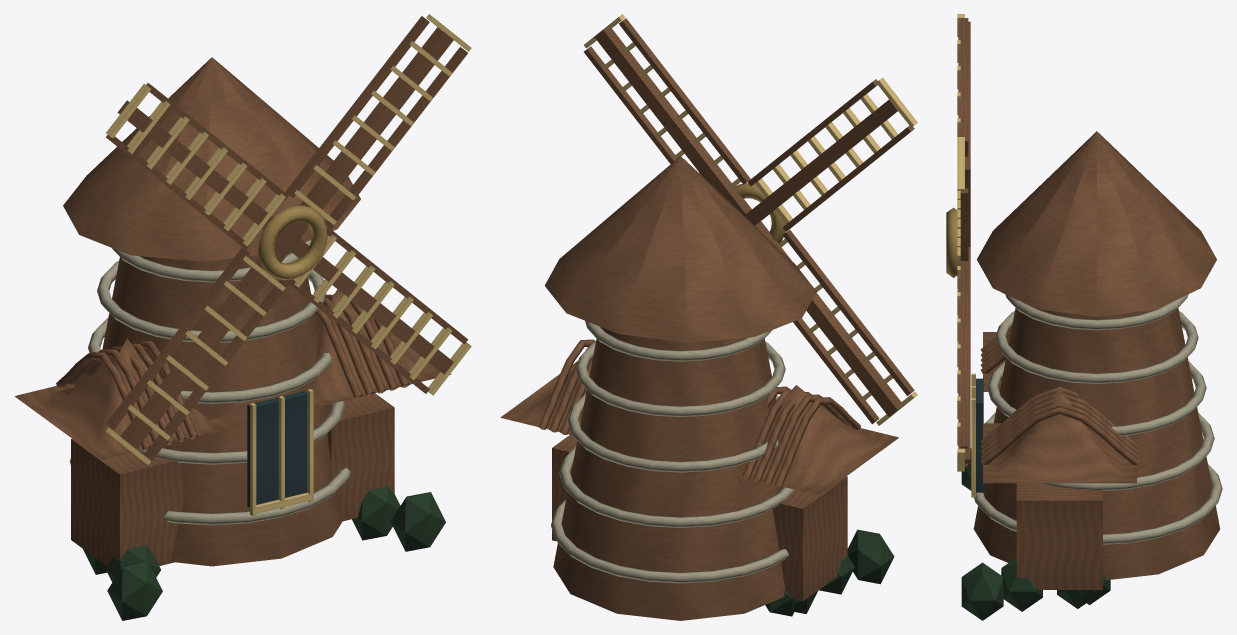
The model's file is windmill.glb.
3 views of the same model, side by side, from view 1: azimuth 30°, elevation 25°; view 2: azimuth 150°, elevation 25°; view 3: azimuth 270°, elevation 25° (orthographic). The views are drawn at different scales.
Visible parts, largest first — view 1: static_ornament, moving_windmill_blades; view 2: static_ornament, moving_windmill_blades; view 3: static_ornament, moving_windmill_blades.
Part boxes in pixels (bbox=[...]): static_ornament: bbox=[14, 57, 451, 620]; moving_windmill_blades: bbox=[106, 14, 471, 464]; static_ornament: bbox=[500, 156, 898, 620]; moving_windmill_blades: bbox=[584, 14, 917, 425]; static_ornament: bbox=[961, 131, 1222, 620]; moving_windmill_blades: bbox=[946, 14, 970, 471].
Size of the model in its own units: 1.2 by 1.71 by 0.8968.
1 material, 1 textured.
